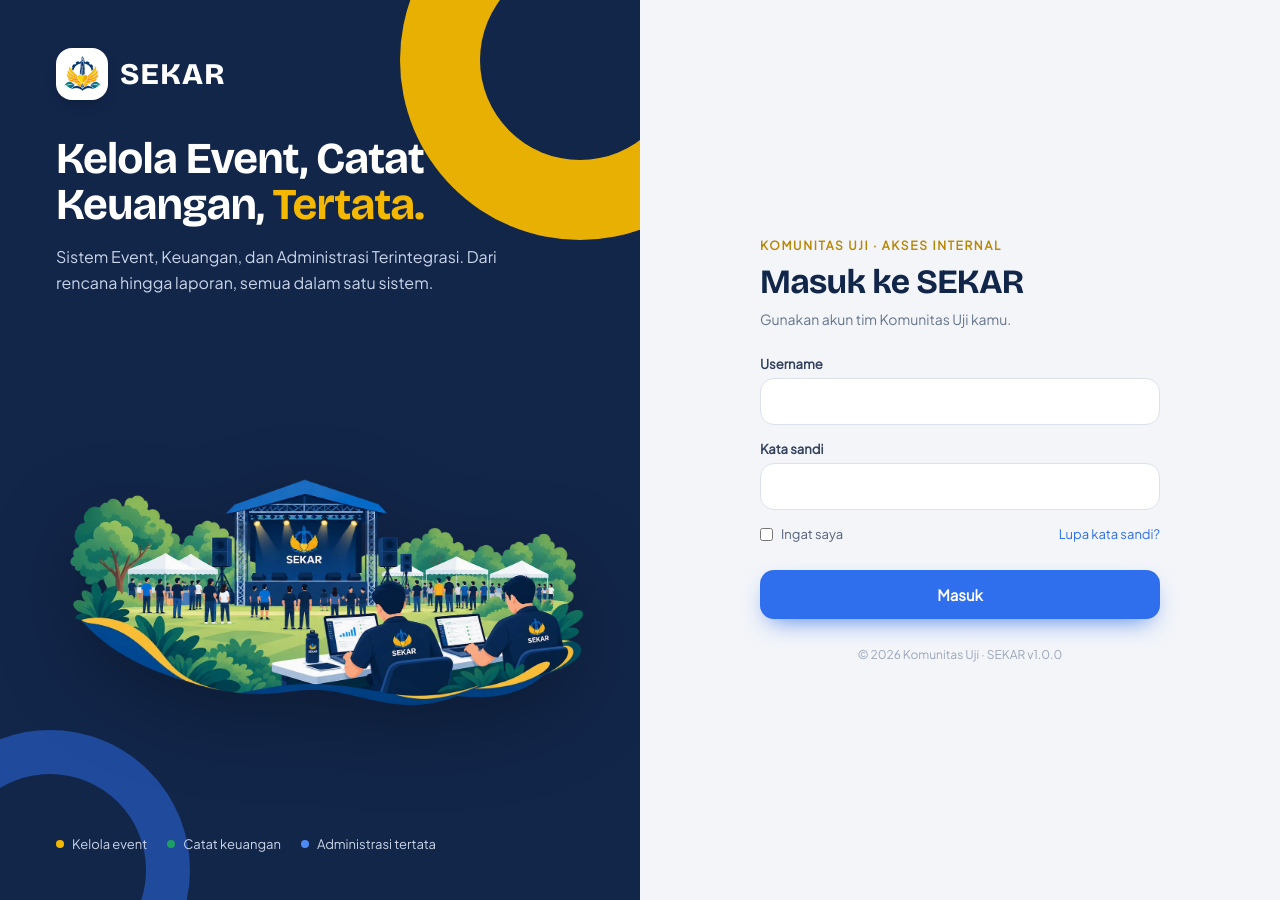
sesi › menampilkan pesan dari server saat login gagal
Type "tidak-ada" into the field labelled "Username" at (960, 402), box [760, 378, 1160, 425]
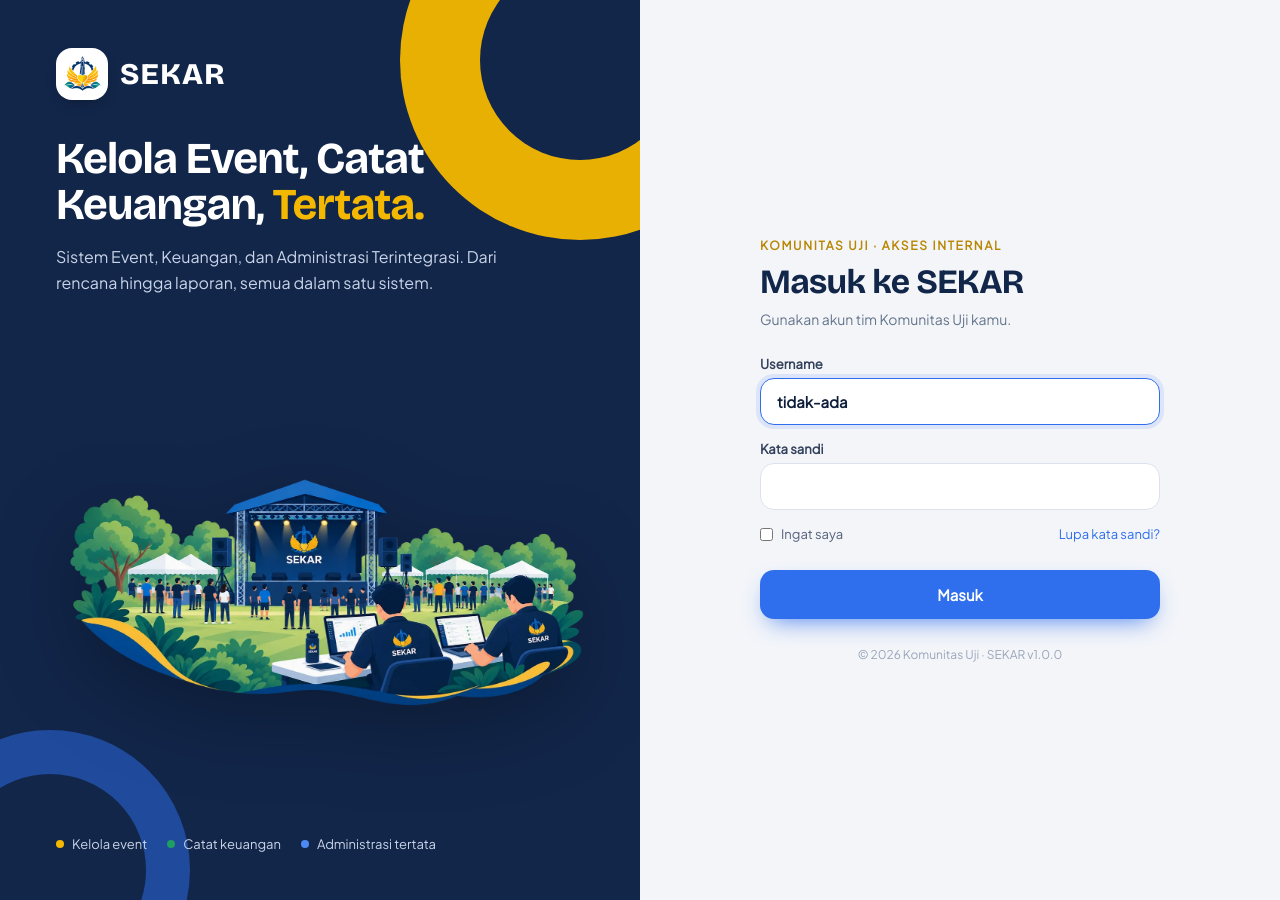
Type "salah" into the password field labelled "Kata sandi" at (960, 486), box [760, 463, 1160, 510]
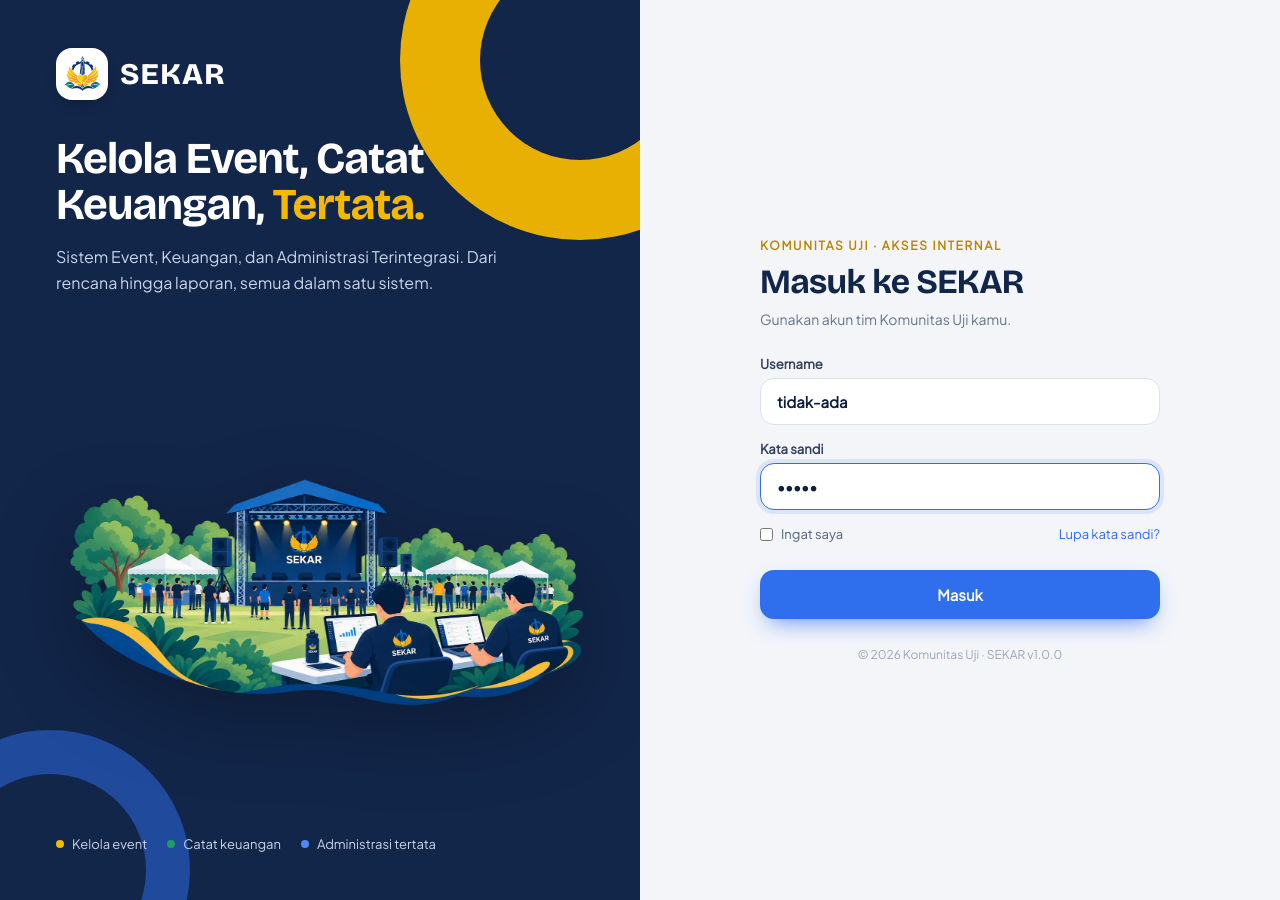
Click the button "Masuk" at (960, 594), box [760, 570, 1160, 619]
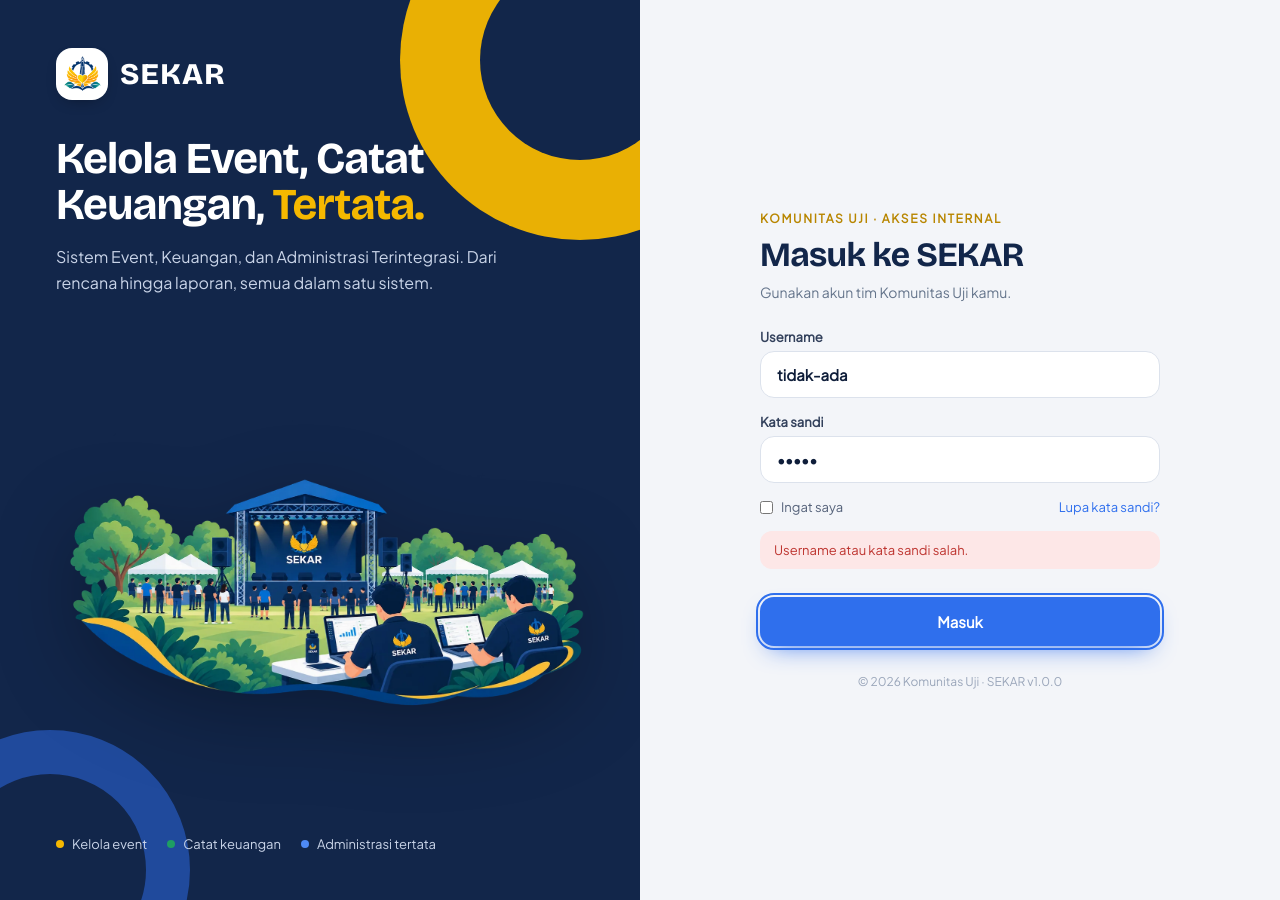
Expected: the message reads "Username atau kata sandi salah.", [774, 542, 968, 558]
